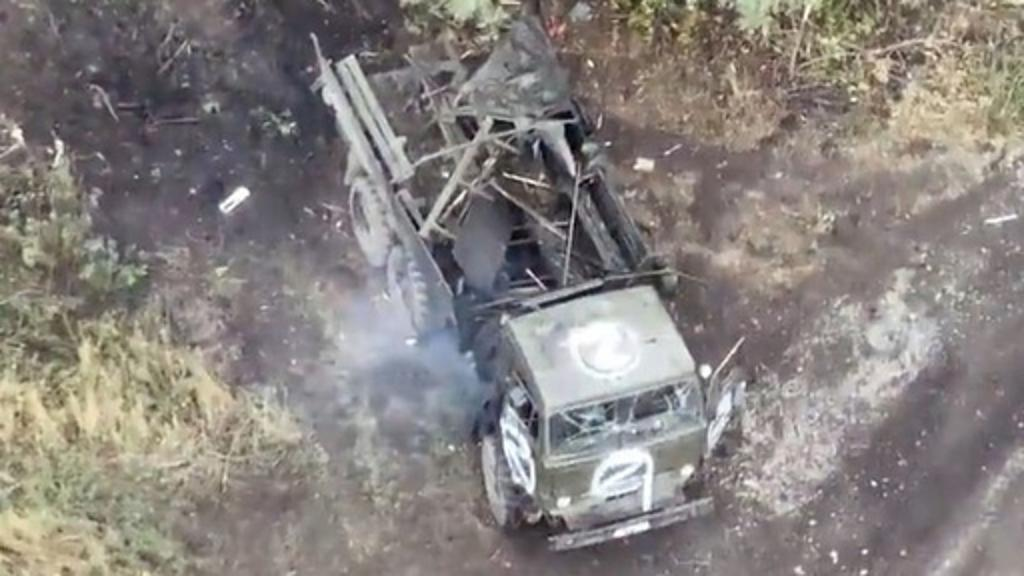TRUCK: (306, 12, 718, 572)
